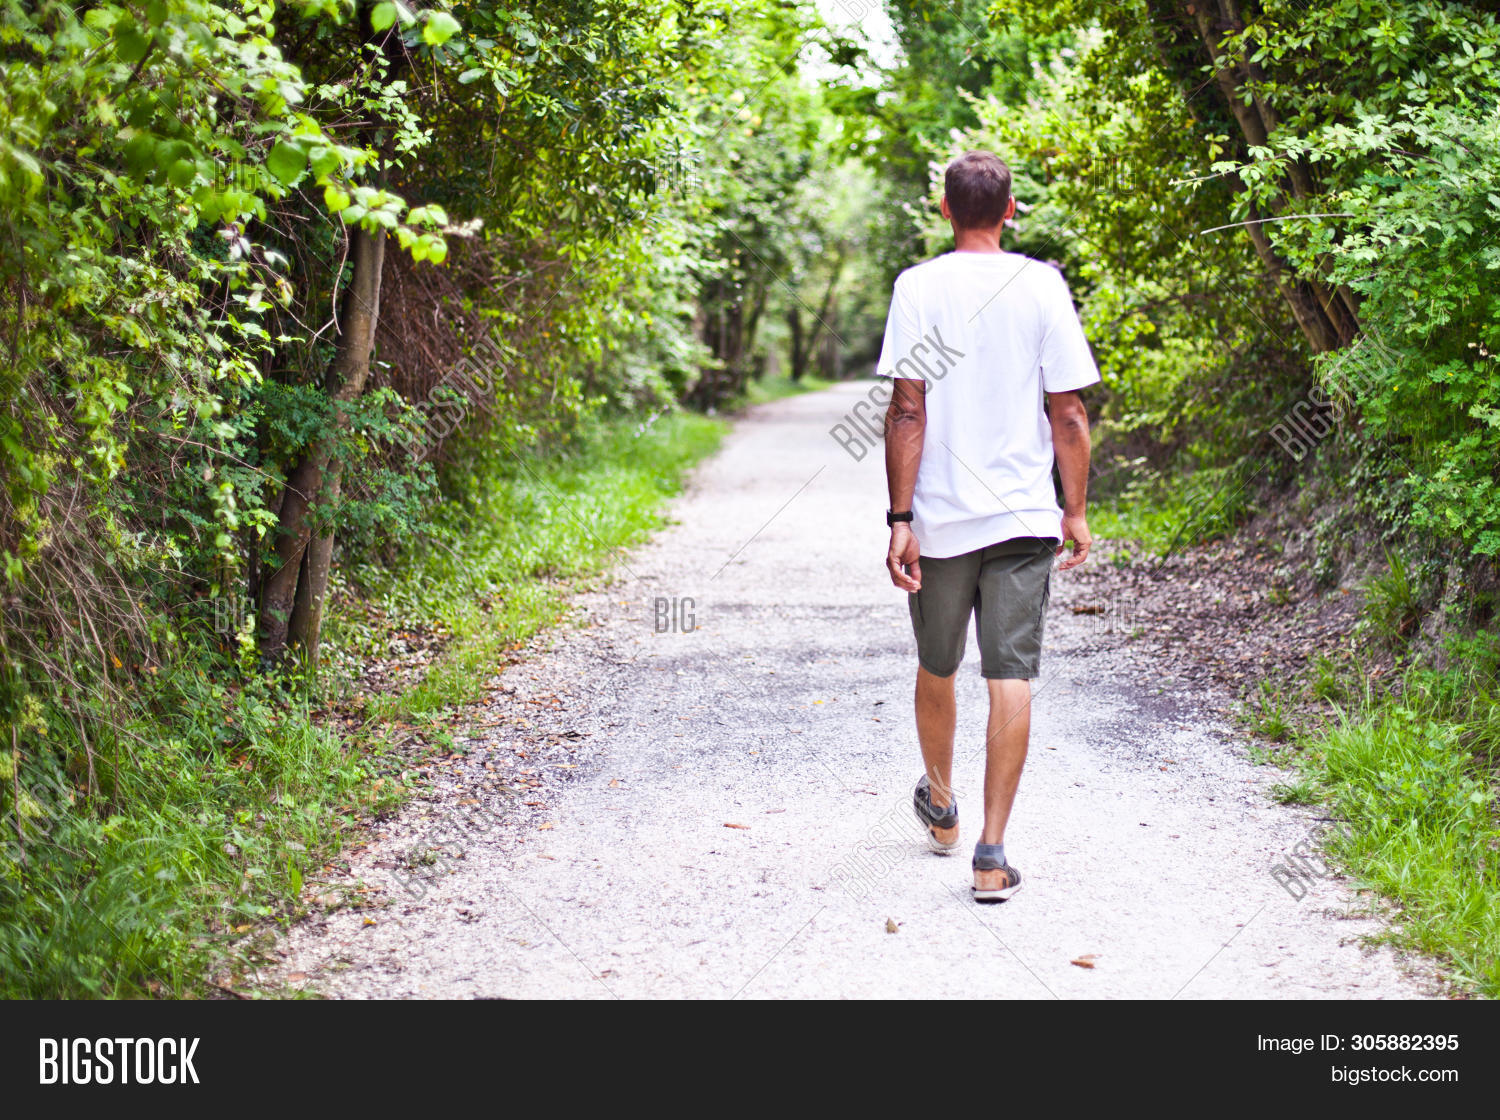person: (873, 149, 1100, 907)
